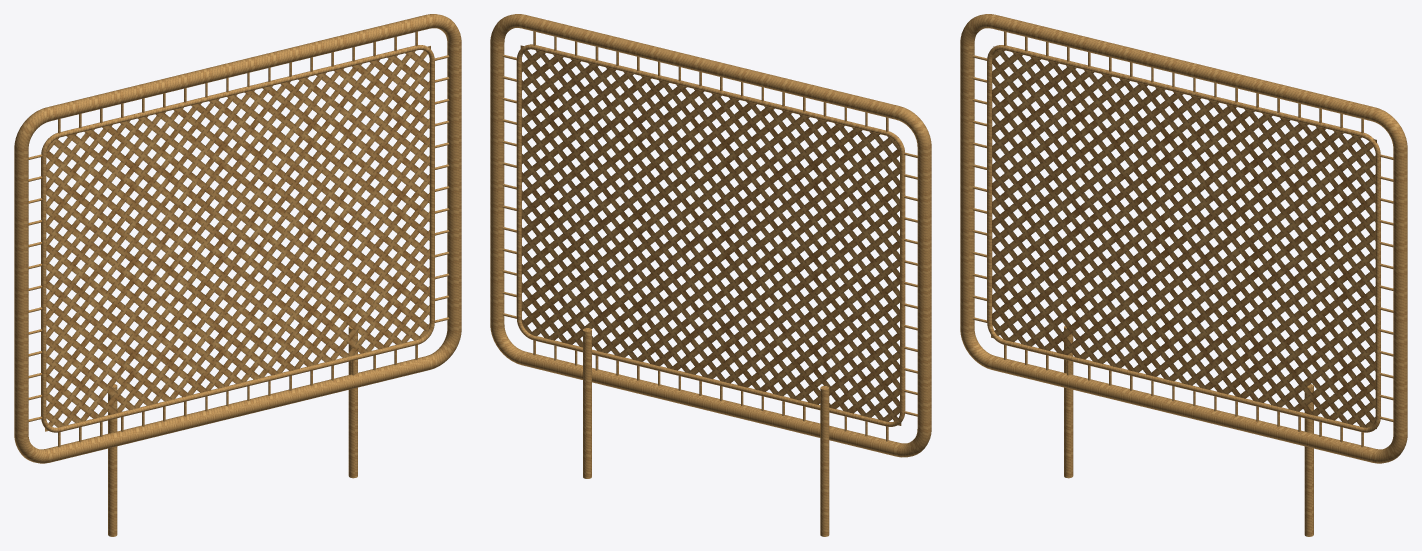
File: headboard_tolkning.glb
3 renders of one model, left to right at view 1: azimuth 30°, elevation 25°; view 2: azimuth 150°, elevation 25°; view 3: azimuth 330°, elevation 25°, orthographic.
Parts seen in each view (by area): view 1: headboard_tolkning; view 2: headboard_tolkning; view 3: headboard_tolkning.
Part boxes in pixels (box(x1,y1,x2,y2)): headboard_tolkning: box(14, 14, 461, 536); headboard_tolkning: box(490, 14, 931, 536); headboard_tolkning: box(960, 14, 1407, 536).
Size of the model in its own units: 1 by 0.96 by 0.042.
2 materials, 2 textured.
